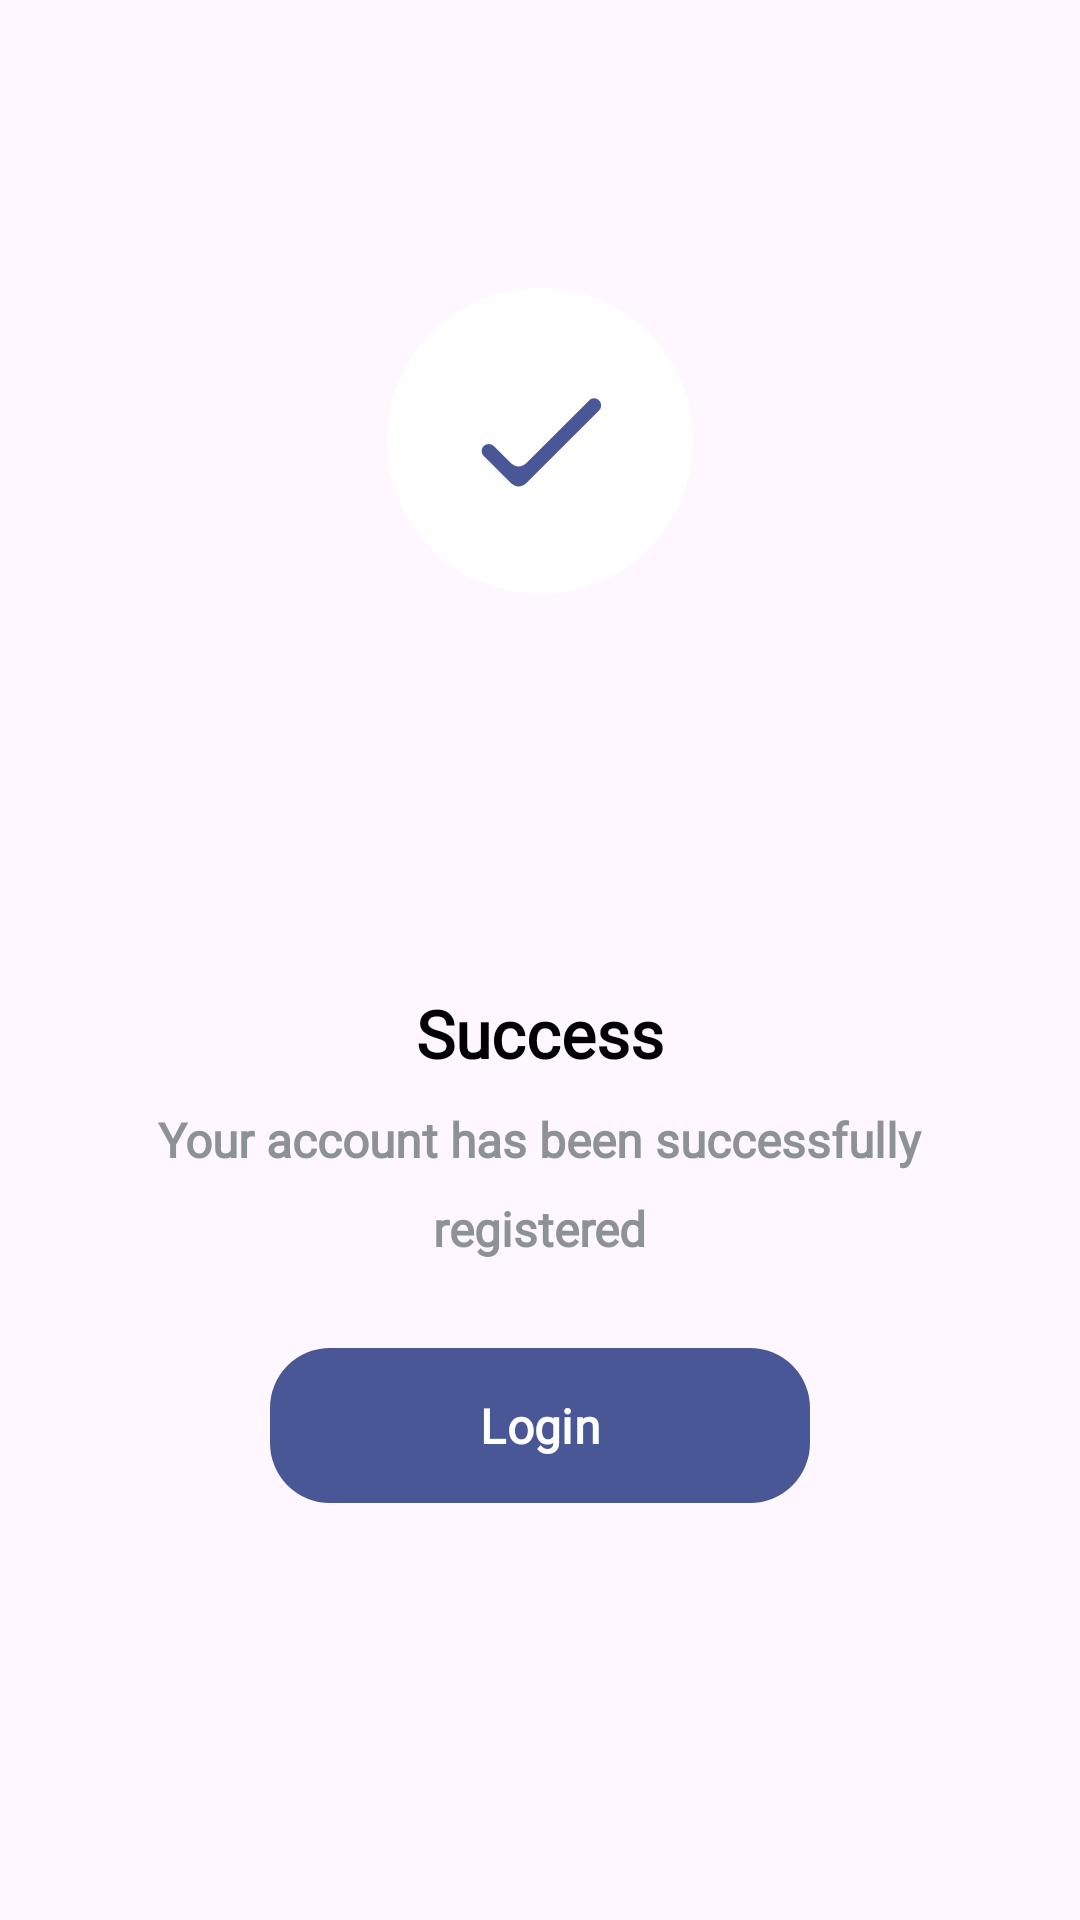

Point at icon controls on the screen. Image size 1080*1920, points as (x=x, y=y).
done: (x=541, y=442)
